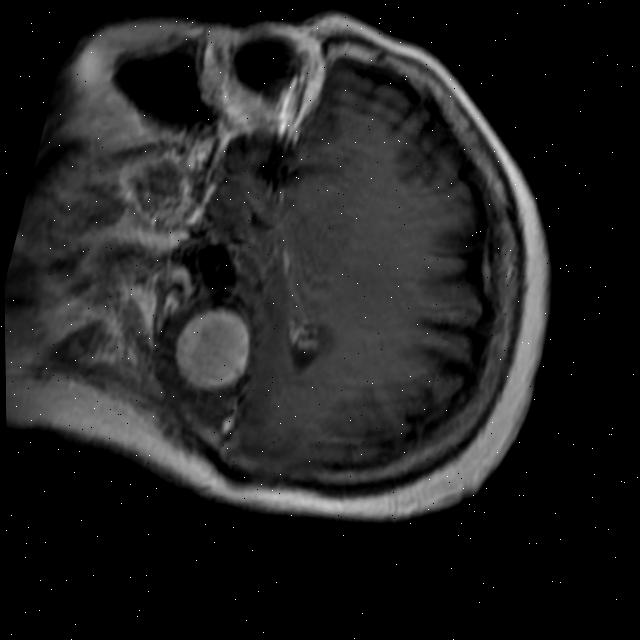Meningioma: (160, 294, 263, 404)
